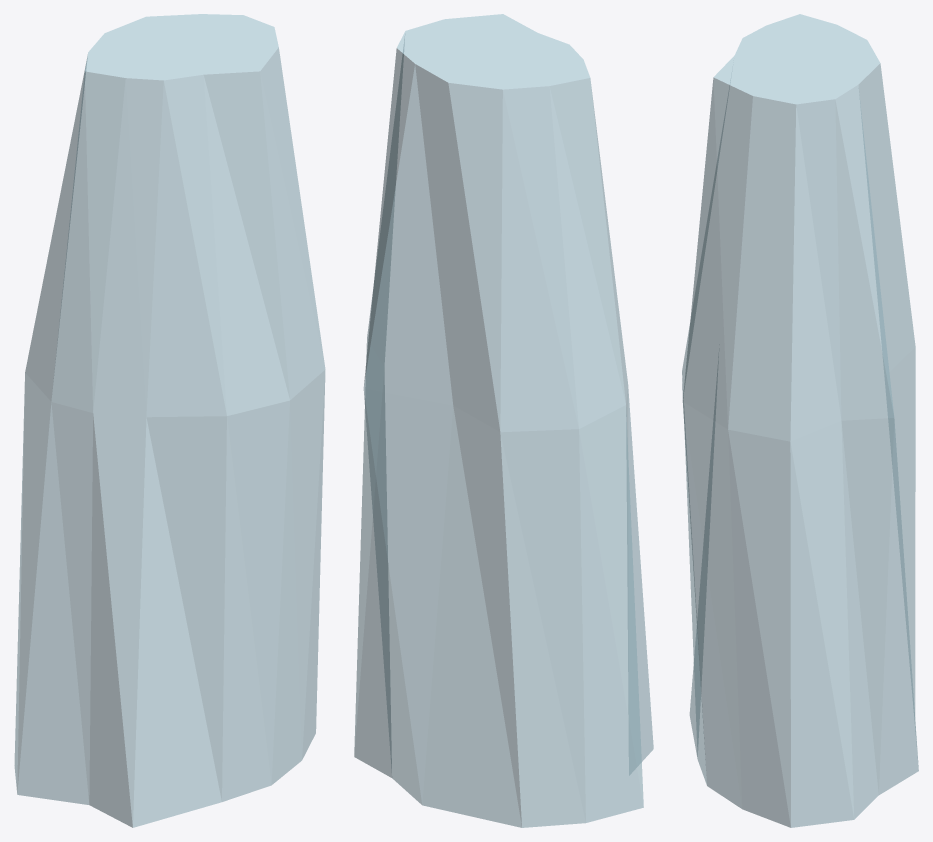
Rendered from alpine-and-arctic-biomes-serac-7ba77557__21039.glb.
3 views of the same model, side by side, from view 1: azimuth 30°, elevation 25°; view 2: azimuth 150°, elevation 25°; view 3: azimuth 270°, elevation 25° (orthographic).
Parts seen in each view (by area): view 1: serac; view 2: serac; view 3: serac.
Boxes of the visible parts, left/top/right/bottom form: serac: left=14, top=14, right=325, bottom=827; serac: left=354, top=14, right=653, bottom=827; serac: left=682, top=14, right=918, bottom=827.
Size of the model in its own units: 4.25 by 10 by 3.05.
